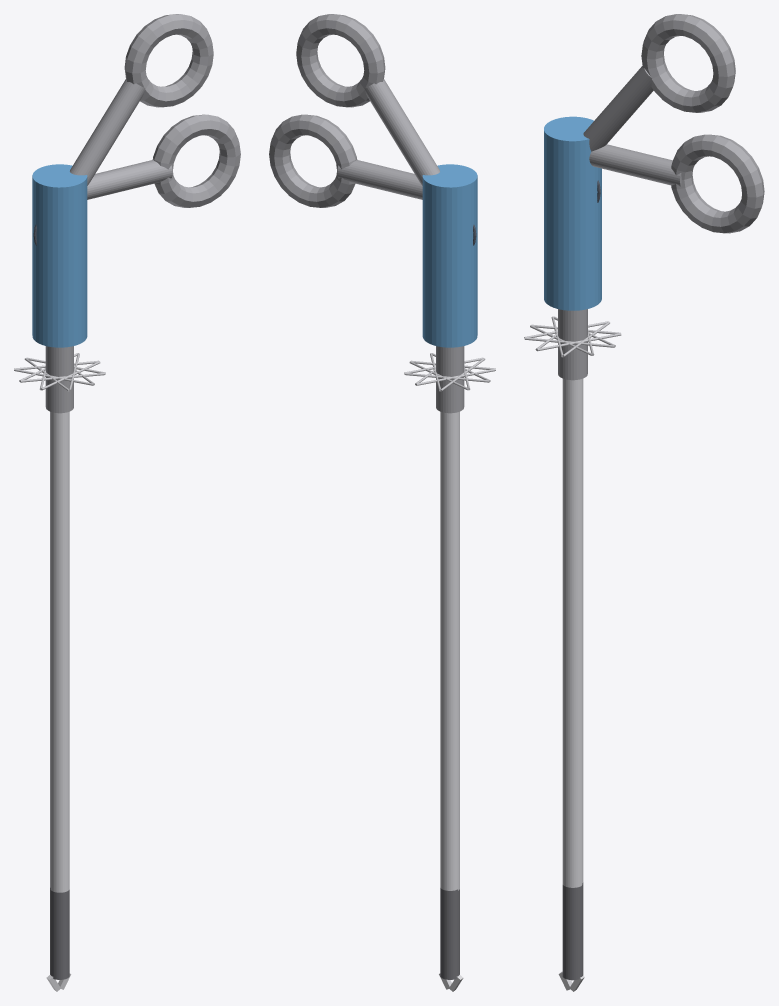
File: Clipadora.fbx
3 views of the same model, side by side, from view 1: azimuth 30°, elevation 25°; view 2: azimuth 150°, elevation 25°; view 3: azimuth 330°, elevation 25° (orthographic). The views are drawn at different scales.
Parts seen in each view (by area): view 1: Mango_Housing, Clipper_Shaft, Mango_FingerRing.001, Mango_FingerRing, Mango_FingerStem.001, Mango_FingerStem, Tip_Insulated, Rotator; view 2: Mango_Housing, Clipper_Shaft, Mango_FingerRing.001, Mango_FingerRing, Mango_FingerStem.001, Mango_FingerStem, Tip_Insulated, Rotator; view 3: Clipper_Shaft, Mango_Housing, Mango_FingerRing.001, Mango_FingerRing, Mango_FingerStem.001, Mango_FingerStem, Tip_Insulated, Rotator.
Boxes of the visible parts, x1,y1,x2,y2 form: Mango_Housing: [32, 164, 87, 347]; Clipper_Shaft: [50, 411, 69, 892]; Mango_FingerRing.001: [124, 14, 213, 107]; Mango_FingerRing: [152, 114, 240, 207]; Mango_FingerStem.001: [70, 79, 145, 185]; Mango_FingerStem: [87, 160, 172, 199]; Tip_Insulated: [50, 887, 69, 979]; Rotator: [45, 346, 73, 413]; Mango_Housing: [422, 164, 477, 347]; Clipper_Shaft: [440, 411, 459, 890]; Mango_FingerRing.001: [296, 14, 385, 107]; Mango_FingerRing: [269, 114, 357, 207]; Mango_FingerStem.001: [364, 79, 439, 185]; Mango_FingerStem: [337, 160, 422, 199]; Tip_Insulated: [440, 888, 459, 979]; Rotator: [436, 346, 464, 413]; Clipper_Shaft: [562, 378, 583, 887]; Mango_Housing: [544, 116, 601, 310]; Mango_FingerRing.001: [641, 14, 735, 112]; Mango_FingerRing: [671, 134, 764, 233]; Mango_FingerStem.001: [583, 66, 653, 151]; Mango_FingerStem: [589, 144, 681, 186]; Tip_Insulated: [562, 882, 583, 980]; Rotator: [558, 309, 587, 380].
Size of the model in its own units: 6.46 by 26.63 by 2.25.
